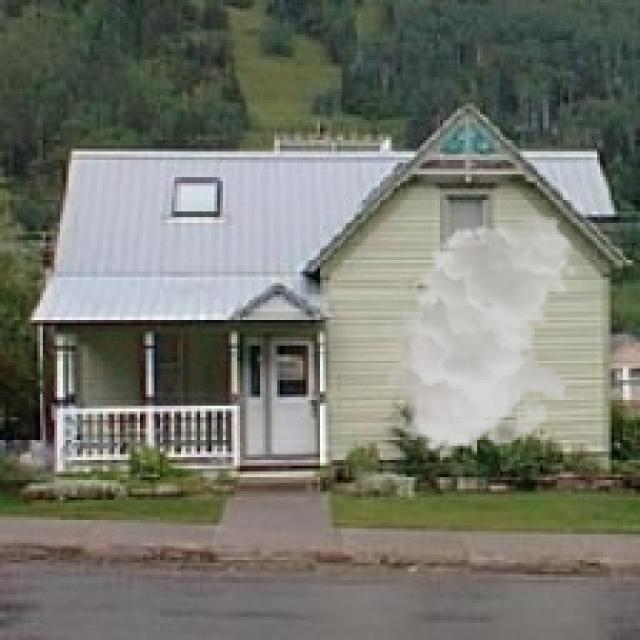smoke: (377, 215, 580, 454)
